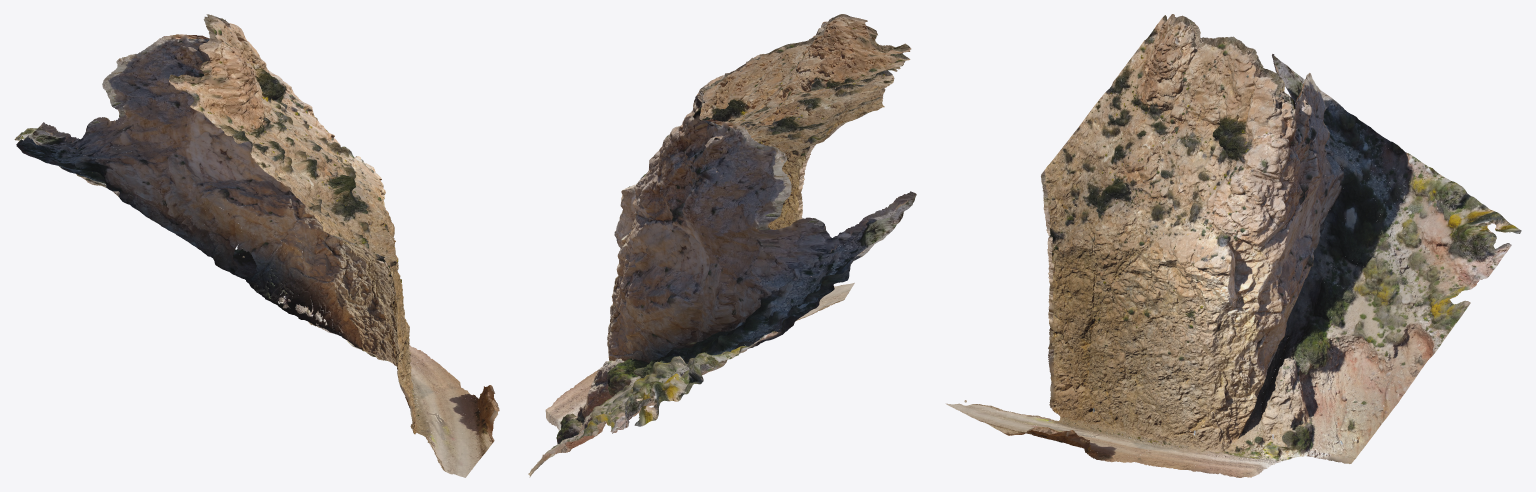
Rendered from sf-fault-plane-spain-c81bf6.glb.
3 views of the same model, side by side, from view 1: azimuth 30°, elevation 25°; view 2: azimuth 150°, elevation 25°; view 3: azimuth 270°, elevation 25° (orthographic). The views are drawn at different scales.
Visible parts, largest first — view 1: Object_4, Object_10, Object_6, Object_2, Object_12, Object_8; view 2: Object_4, Object_10, Object_2, Object_12, Object_8, Object_6; view 3: Object_8, Object_2, Object_4, Object_10, Object_6, Object_12.
Part boxes in pixels (left/top/right/bottom): Object_4: left=40, top=34, right=480, bottom=434; Object_10: left=16, top=14, right=494, bottom=477; Object_6: left=67, top=74, right=499, bottom=465; Object_2: left=17, top=126, right=497, bottom=473; Object_12: left=14, top=28, right=481, bottom=474; Object_8: left=92, top=16, right=494, bottom=430; Object_4: left=528, top=67, right=916, bottom=477; Object_10: left=547, top=21, right=892, bottom=436; Object_2: left=565, top=67, right=915, bottom=392; Object_12: left=552, top=14, right=877, bottom=432; Object_8: left=563, top=39, right=880, bottom=429; Object_6: left=545, top=43, right=911, bottom=447; Object_8: left=1027, top=36, right=1511, bottom=469; Object_2: left=965, top=55, right=1415, bottom=468; Object_4: left=1038, top=54, right=1458, bottom=469; Object_10: left=945, top=33, right=1502, bottom=470; Object_6: left=982, top=15, right=1492, bottom=477; Object_12: left=959, top=14, right=1521, bottom=470.
Size of the model in its own units: 28.45 by 30.91 by 44.48.
Materials: 6 (6 with a texture image).
